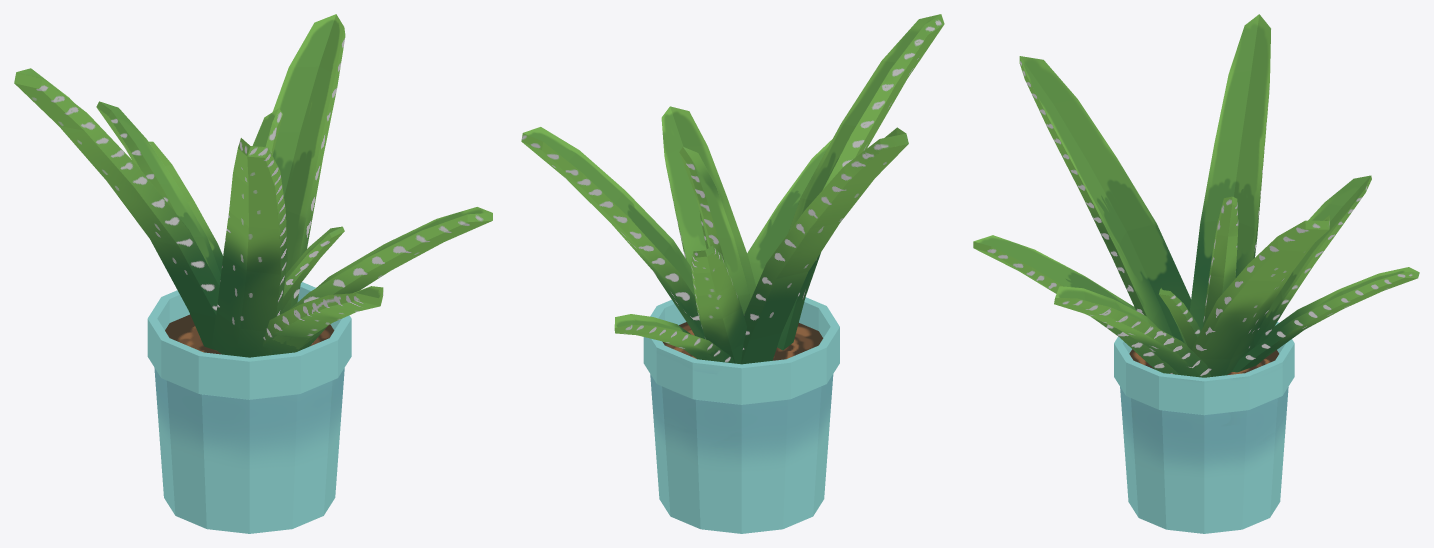
Rendered from aloe.glb.
3 renders of one model, left to right at view 1: azimuth 30°, elevation 25°; view 2: azimuth 150°, elevation 25°; view 3: azimuth 270°, elevation 25°, orthographic. The views are drawn at different scales.
Visible parts, largest first — view 1: Object_2; view 2: Object_2; view 3: Object_2.
Part boxes in pixels (x1,y1,x2,y2): Object_2: (14,14,492,533); Object_2: (521,14,944,533); Object_2: (973,14,1419,533).
Bounding box in the file's own units: 1.25 × 1.49 × 1.5.
1 material, 1 textured.
